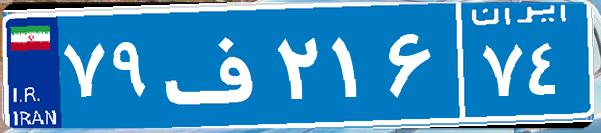1: (330, 28, 385, 110)
2: (273, 28, 330, 110)
4: (525, 38, 570, 115)
6: (385, 28, 445, 110)
7: (57, 26, 110, 107), (475, 38, 525, 113)
9: (110, 28, 158, 105)
ف: (158, 15, 273, 115)
